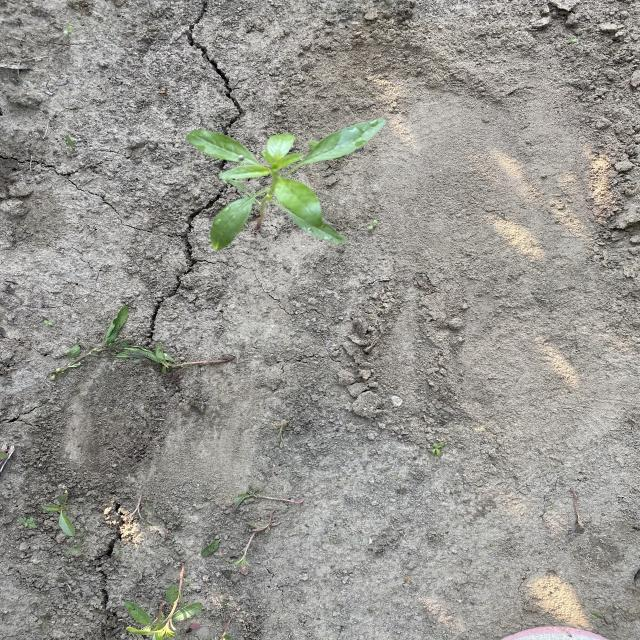Waterhemp: (183, 116, 390, 253), (117, 563, 206, 637), (38, 489, 80, 537)
